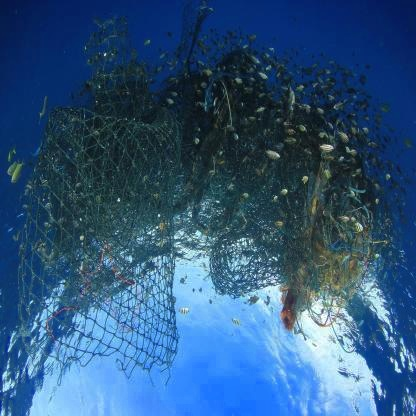net: (22, 99, 373, 374)
